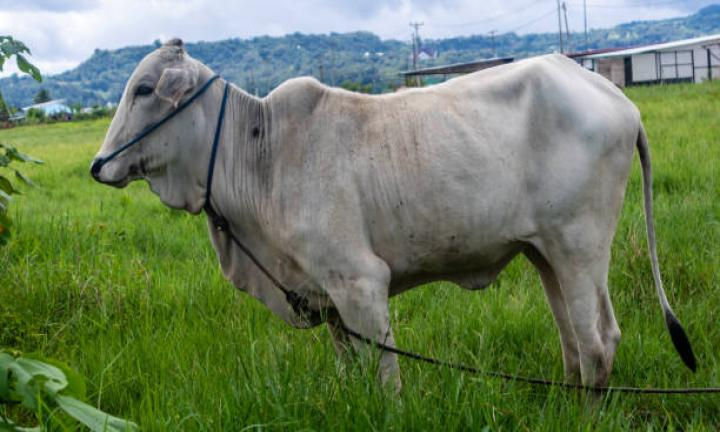Brahman: (92, 39, 694, 386)
